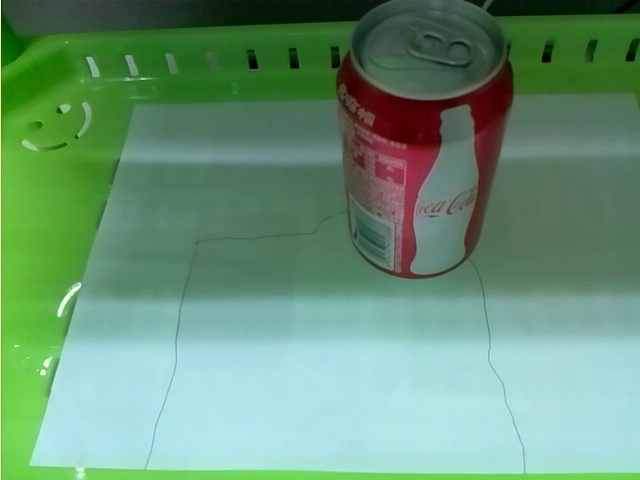cocacola: (339, 2, 514, 279)
